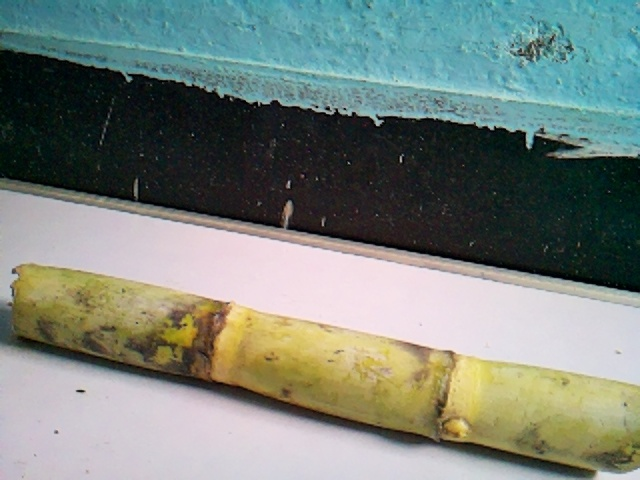Good Sugarcane: (8, 263, 640, 473)
Node: (413, 340, 490, 450), (188, 288, 248, 391)
